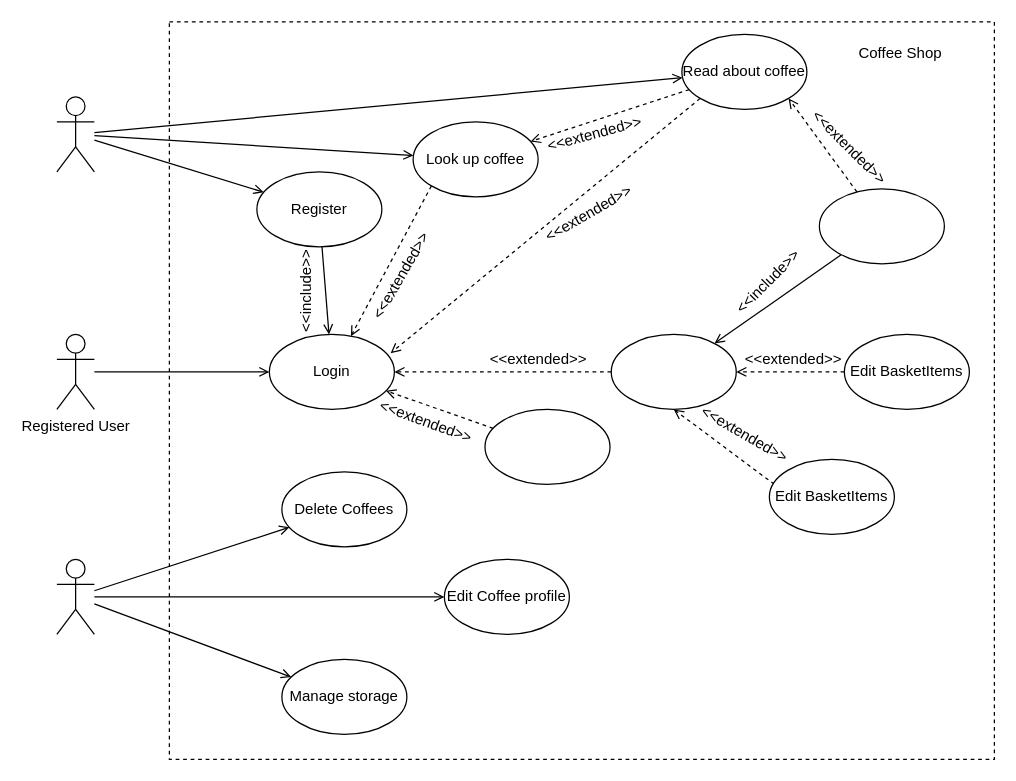
Some shapes in this 1016 by 781 pixel diagram are drawn without their labels. Here are the shapes that lost their labels. From the top down, the centre of each, then its label:
point (75, 134): Normal User
point (881, 226): Add To Basket
point (673, 371): Browse Baskets
point (547, 446): History Orders
point (75, 596): Administer
